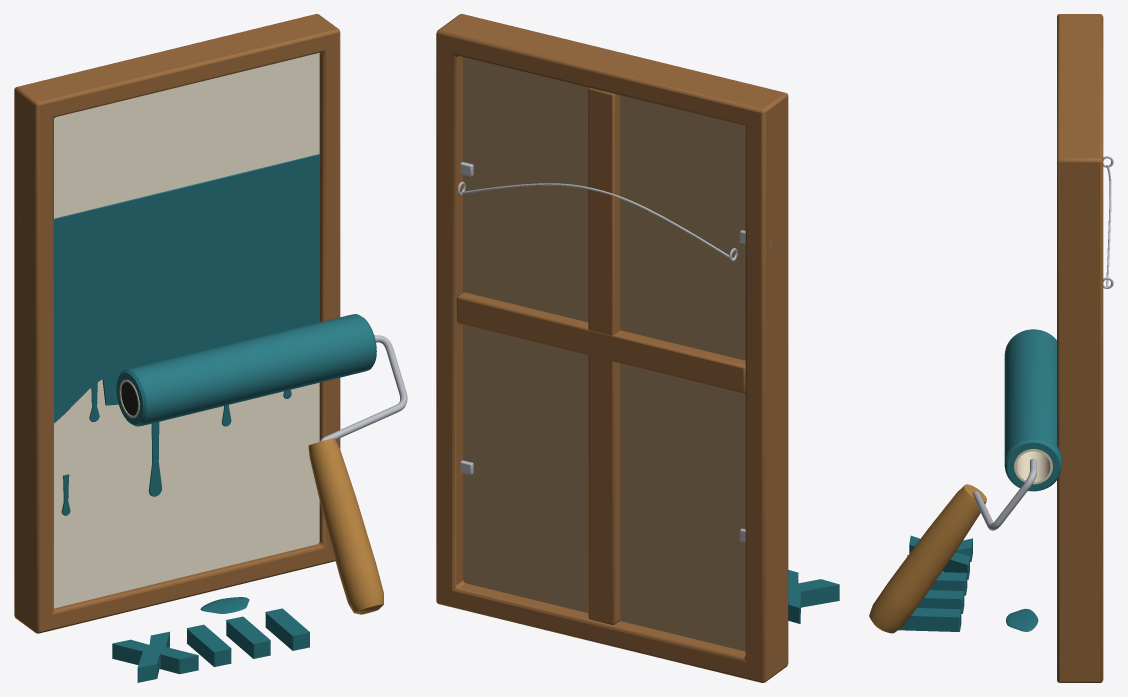
The model's file is paint-roller-kit.glb.
3 views of the same model, side by side, from view 1: azimuth 30°, elevation 25°; view 2: azimuth 150°, elevation 25°; view 3: azimuth 270°, elevation 25° (orthographic). The views are drawn at different scales.
Visible parts, largest first — view 1: board, drip, brace_h, cover, puddle, grip, wire; view 2: backboard, brace_h, puddle, hanging_wire; view 3: brace_h, cover, grip, puddle, wire, core, hanging_wire.
Boxes of the visible parts, x1,y1,x2,y2 form: board: (54,53,319,608); drip: (54,154,319,515); brace_h: (14,14,340,633); cover: (116,314,376,426); puddle: (112,597,309,682); grip: (308,438,383,614); wire: (320,335,407,441); backboard: (463,57,745,651); brace_h: (436,14,788,682); puddle: (788,570,839,623); hanging_wire: (457,162,771,541); brace_h: (1057,14,1103,682); cover: (1004,329,1062,491); grip: (869,484,986,633); puddle: (898,535,1038,631); wire: (973,458,1036,530); core: (1014,449,1052,484); hanging_wire: (1103,156,1113,288).
Size of the model in its own units: 0.3352 by 0.5 by 0.2112.
